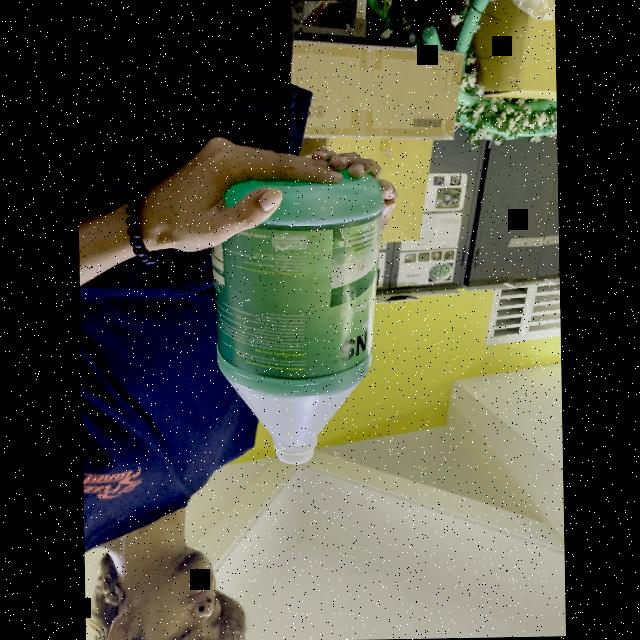chemical_plastic_gallon: (211, 174, 387, 469)
